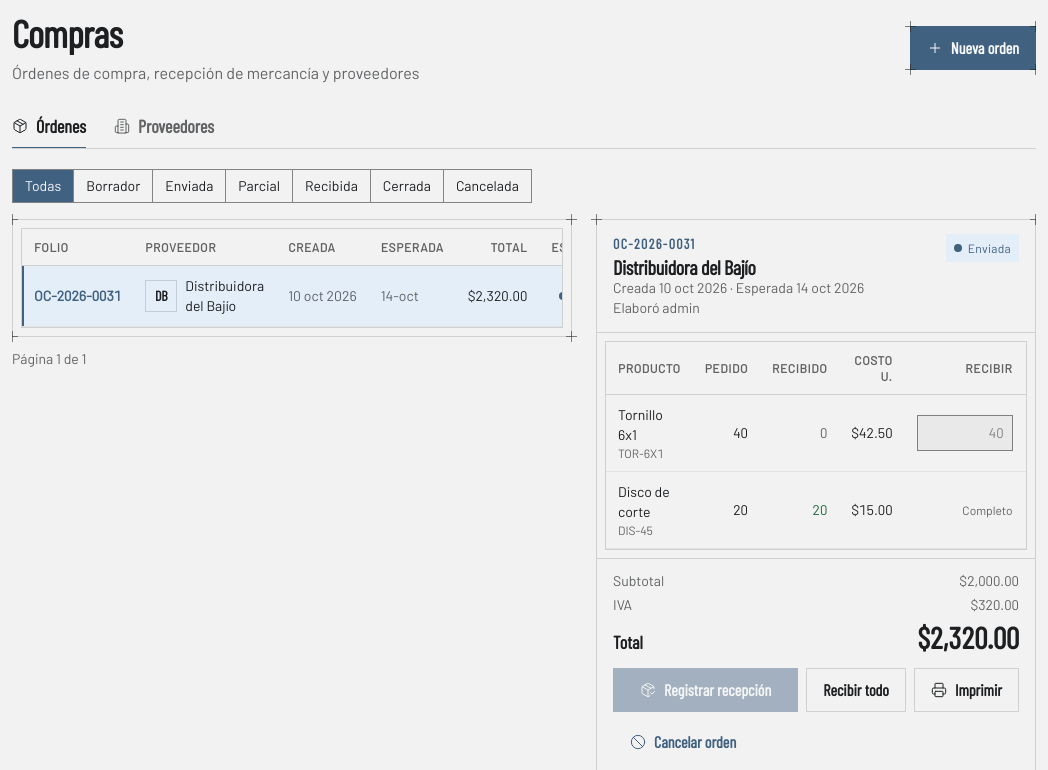
Test case: Compras · órdenes › muestra el error del servidor al recibir
This screenshot has width=1048, height=770.
Type "5" into the number field named "Recibir Tornillo 6x1".
click(964, 433); type("5")  # box left=916, top=415, right=1012, bottom=451
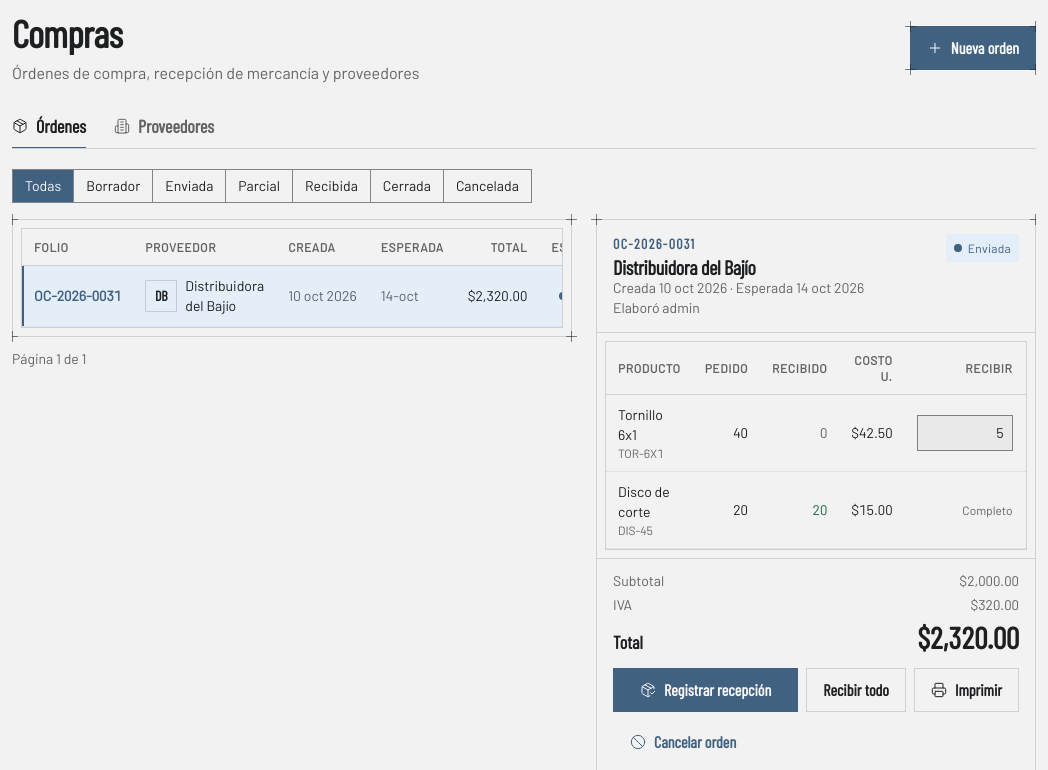
Click the button "Registrar recepción".
click(706, 690)  # box left=613, top=668, right=798, bottom=712
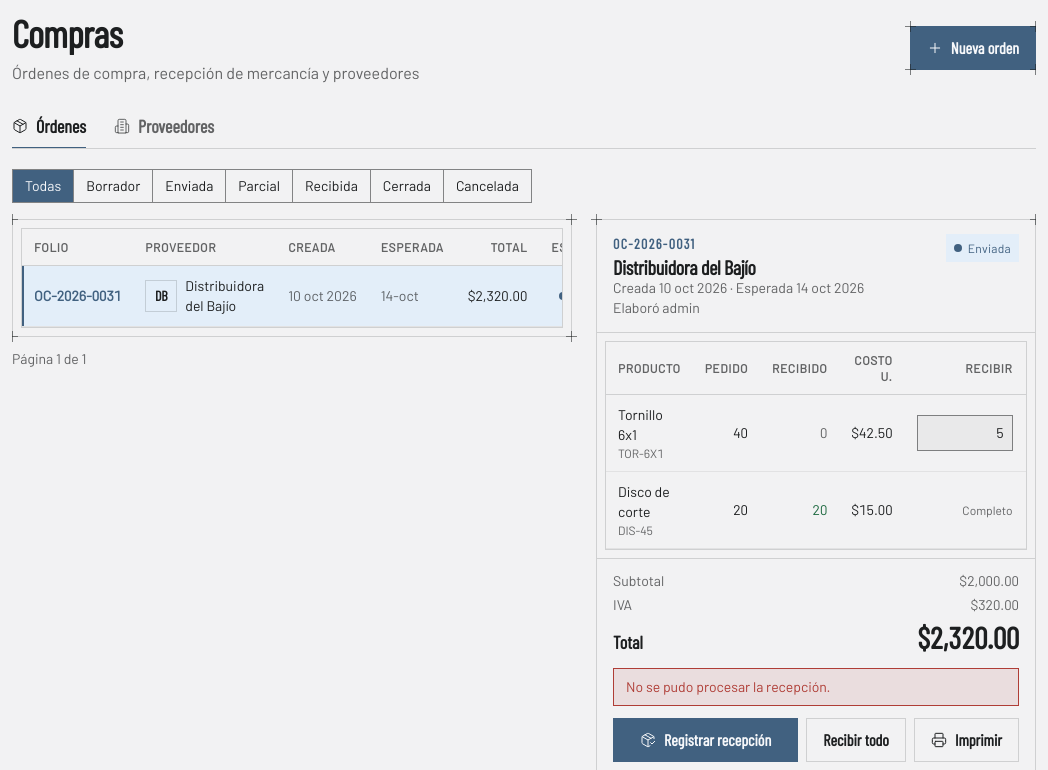
Expected: the message reads "No se pudo procesar la recepción.", left=626, top=678, right=830, bottom=695
